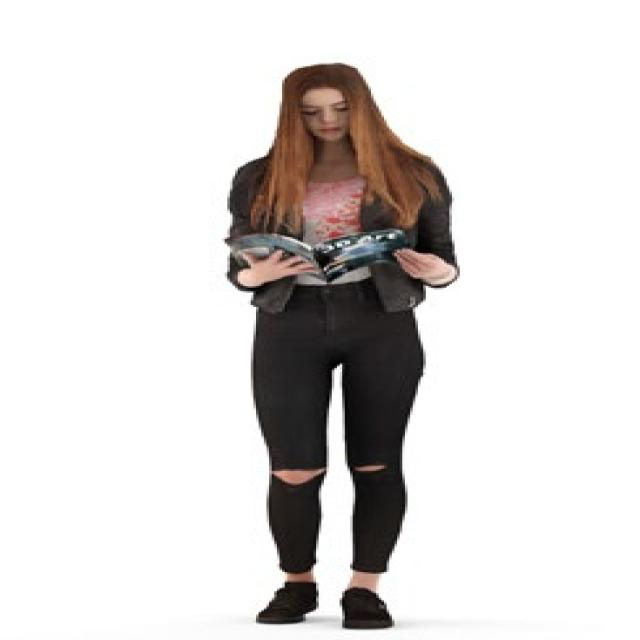standing: (210, 61, 457, 632)
